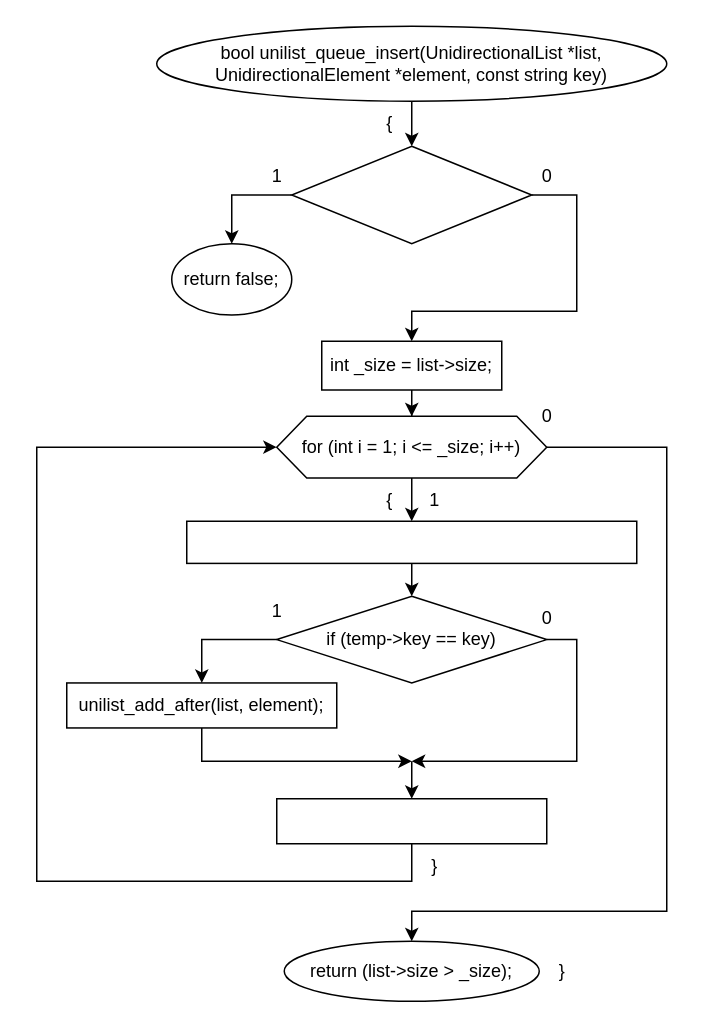
This 705x1028 diagram has some shape labels left out. The centre of each missing label's shape, as x and y in pixels:
"if (list->first == nullptr)" goes at [411,194].
"UnidirectionalElement *temp = unilist_pop_first(list);" goes at [411,541].
"unilist_add_after(list, temp);" goes at [411,820].
